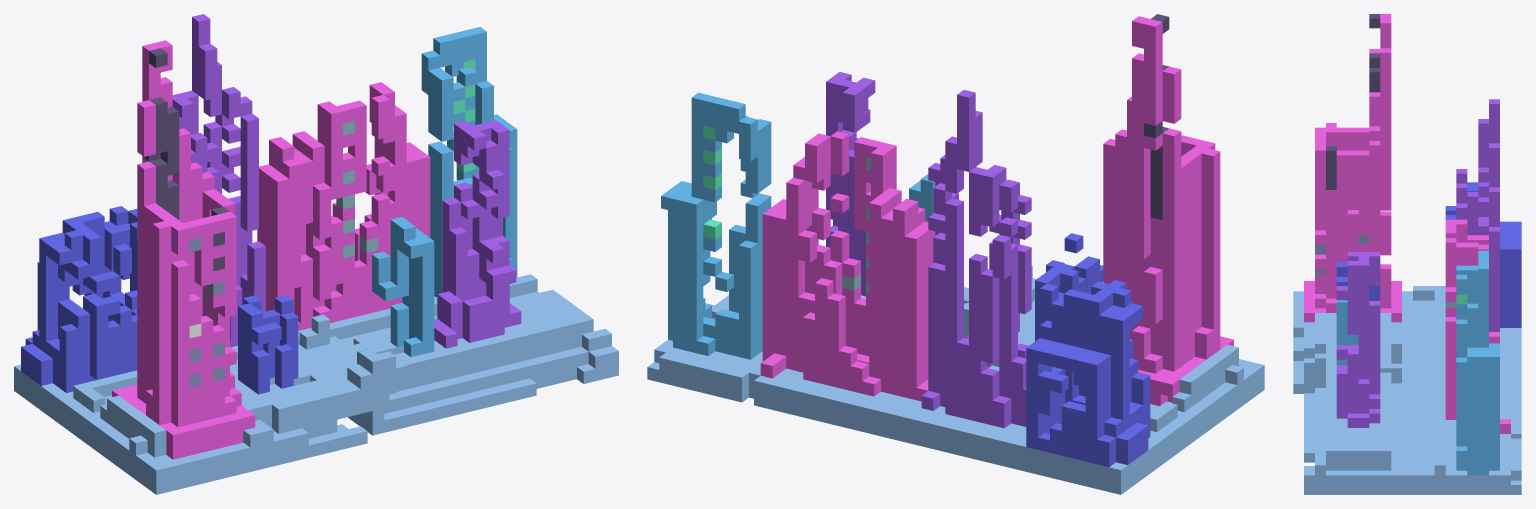
The model's file is building_4_collapsed_2.gltf.
3 views of the same model, side by side, from view 1: azimuth 30°, elevation 25°; view 2: azimuth 150°, elevation 25°; view 3: azimuth 270°, elevation 25° (orthographic). The views are drawn at different scales.
Visible parts, largest first — view 1: Layer.1; view 2: Layer.1; view 3: Layer.1.
Boxes of the visible parts, x1,y1,x2,y2 form: Layer.1: (14, 14, 618, 494); Layer.1: (647, 14, 1264, 494); Layer.1: (1293, 14, 1521, 494).
Size of the model in its own units: 40 by 32 by 21.
1 material, 1 textured.
